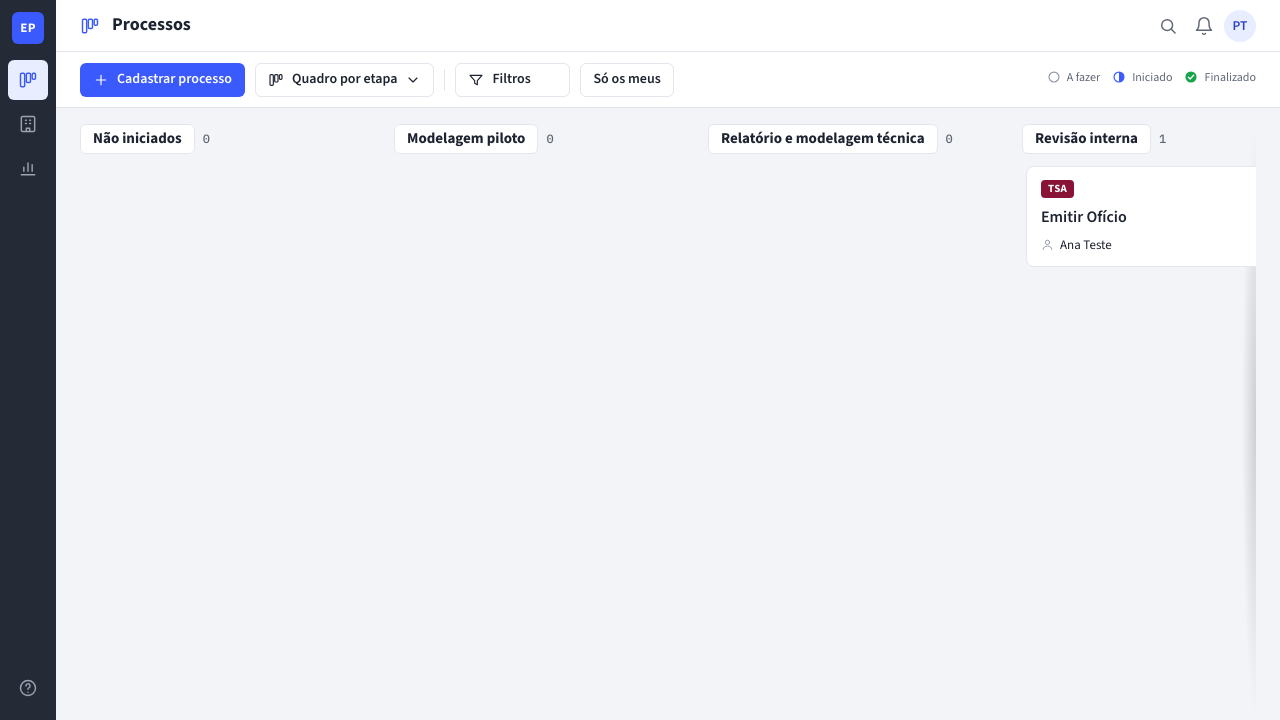
o Quadro por setor monta uma coluna por setor ativo em ordem de sigla, com a sigla e o nome, mesmo vazia
Click the button "Quadro por etapa" at point(345, 80), box [255, 62, 434, 96]
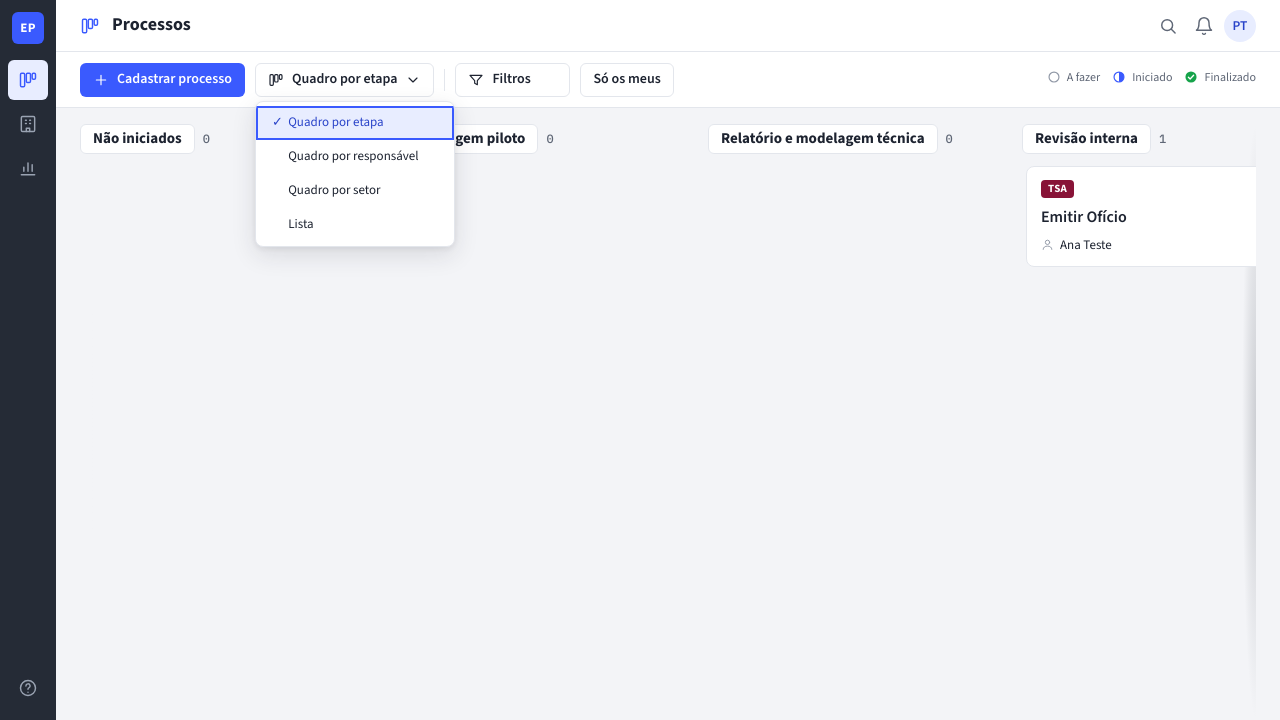
Click the menu item "Quadro por setor" at point(355, 190), box [256, 174, 454, 208]
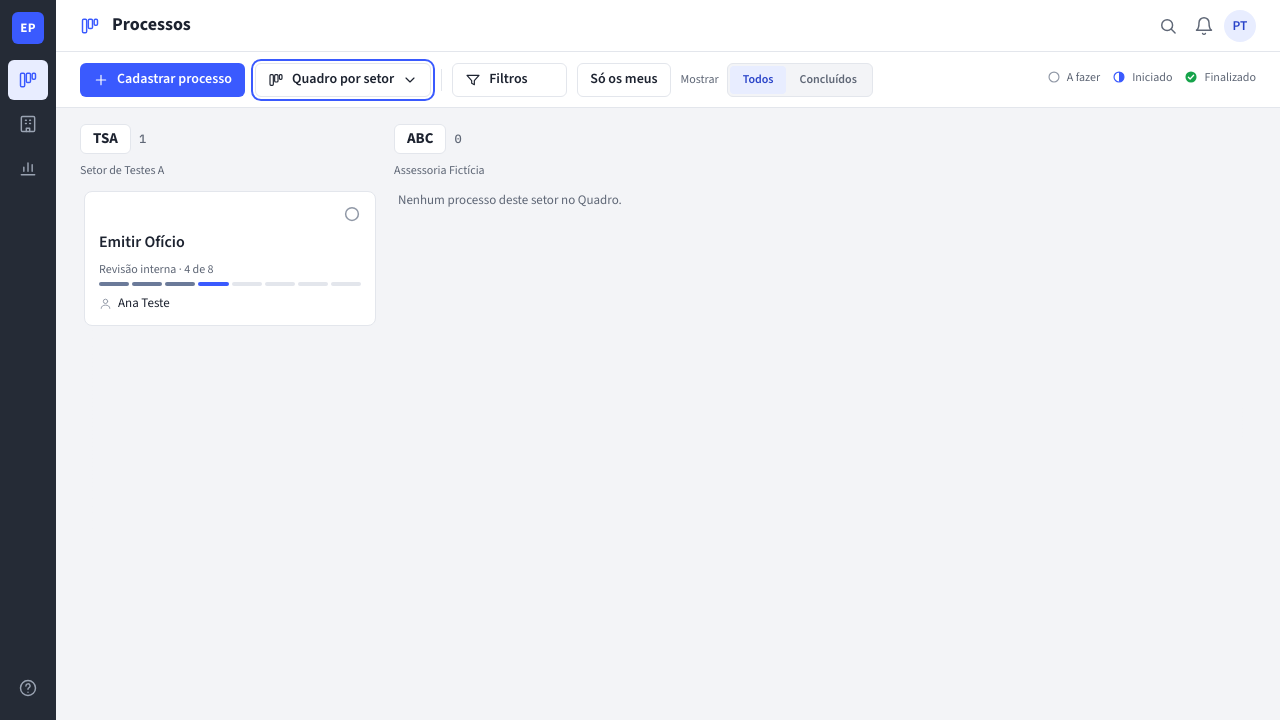
Check: the button "Quadro por setor" is shown, box [255, 62, 431, 96]
Check: the text "Nenhum processo deste setor no Quadro." is shown, box [398, 191, 622, 209]
